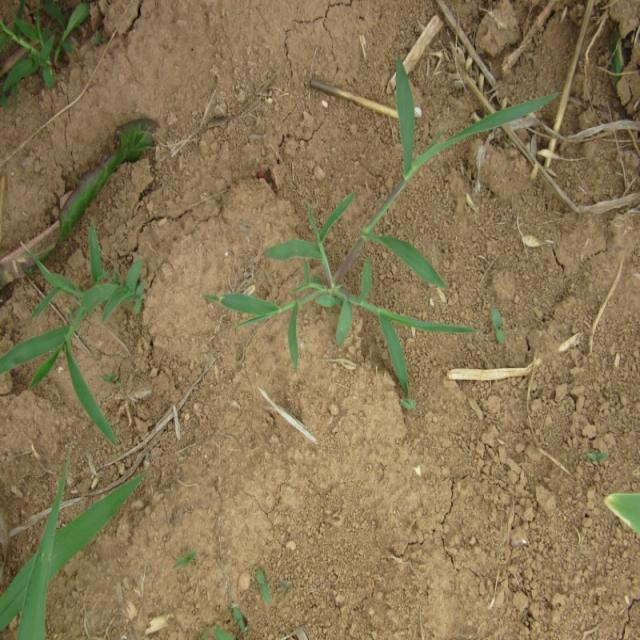bg: (213, 58, 558, 400)
